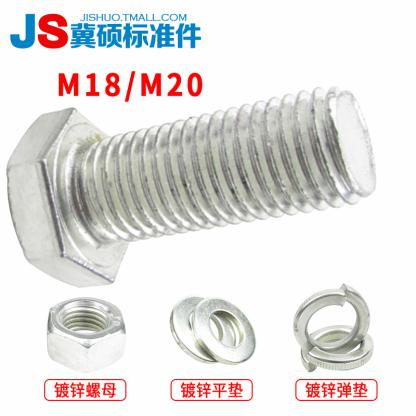FOD: (2, 83, 380, 289)
